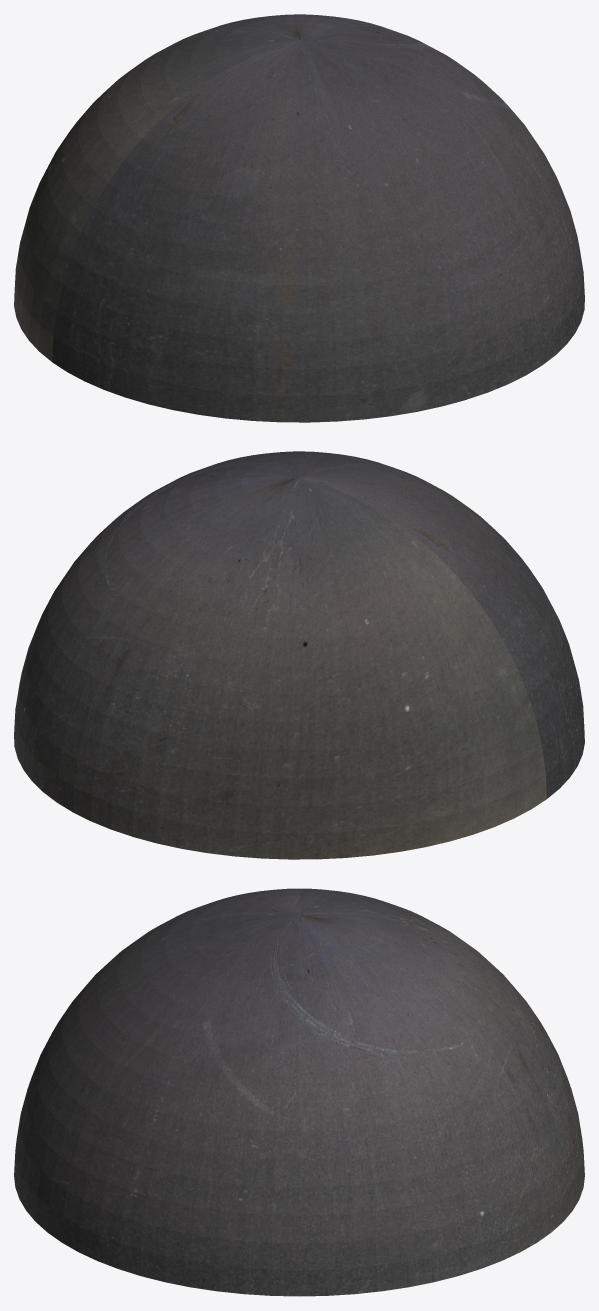
Rendered from sphere_environment.fbx.
3 views of the same model, one above another, from view 1: azimuth 30°, elevation 25°; view 2: azimuth 150°, elevation 25°; view 3: azimuth 270°, elevation 25° (orthographic).
Visible parts, largest first — view 1: Sphere; view 2: Sphere; view 3: Sphere.
Boxes of the visible parts, x1,y1,x2,y2 form: Sphere: (14, 14, 584, 422); Sphere: (14, 451, 584, 859); Sphere: (14, 888, 584, 1296).
Size of the model in its own units: 196 by 99.45 by 196.
